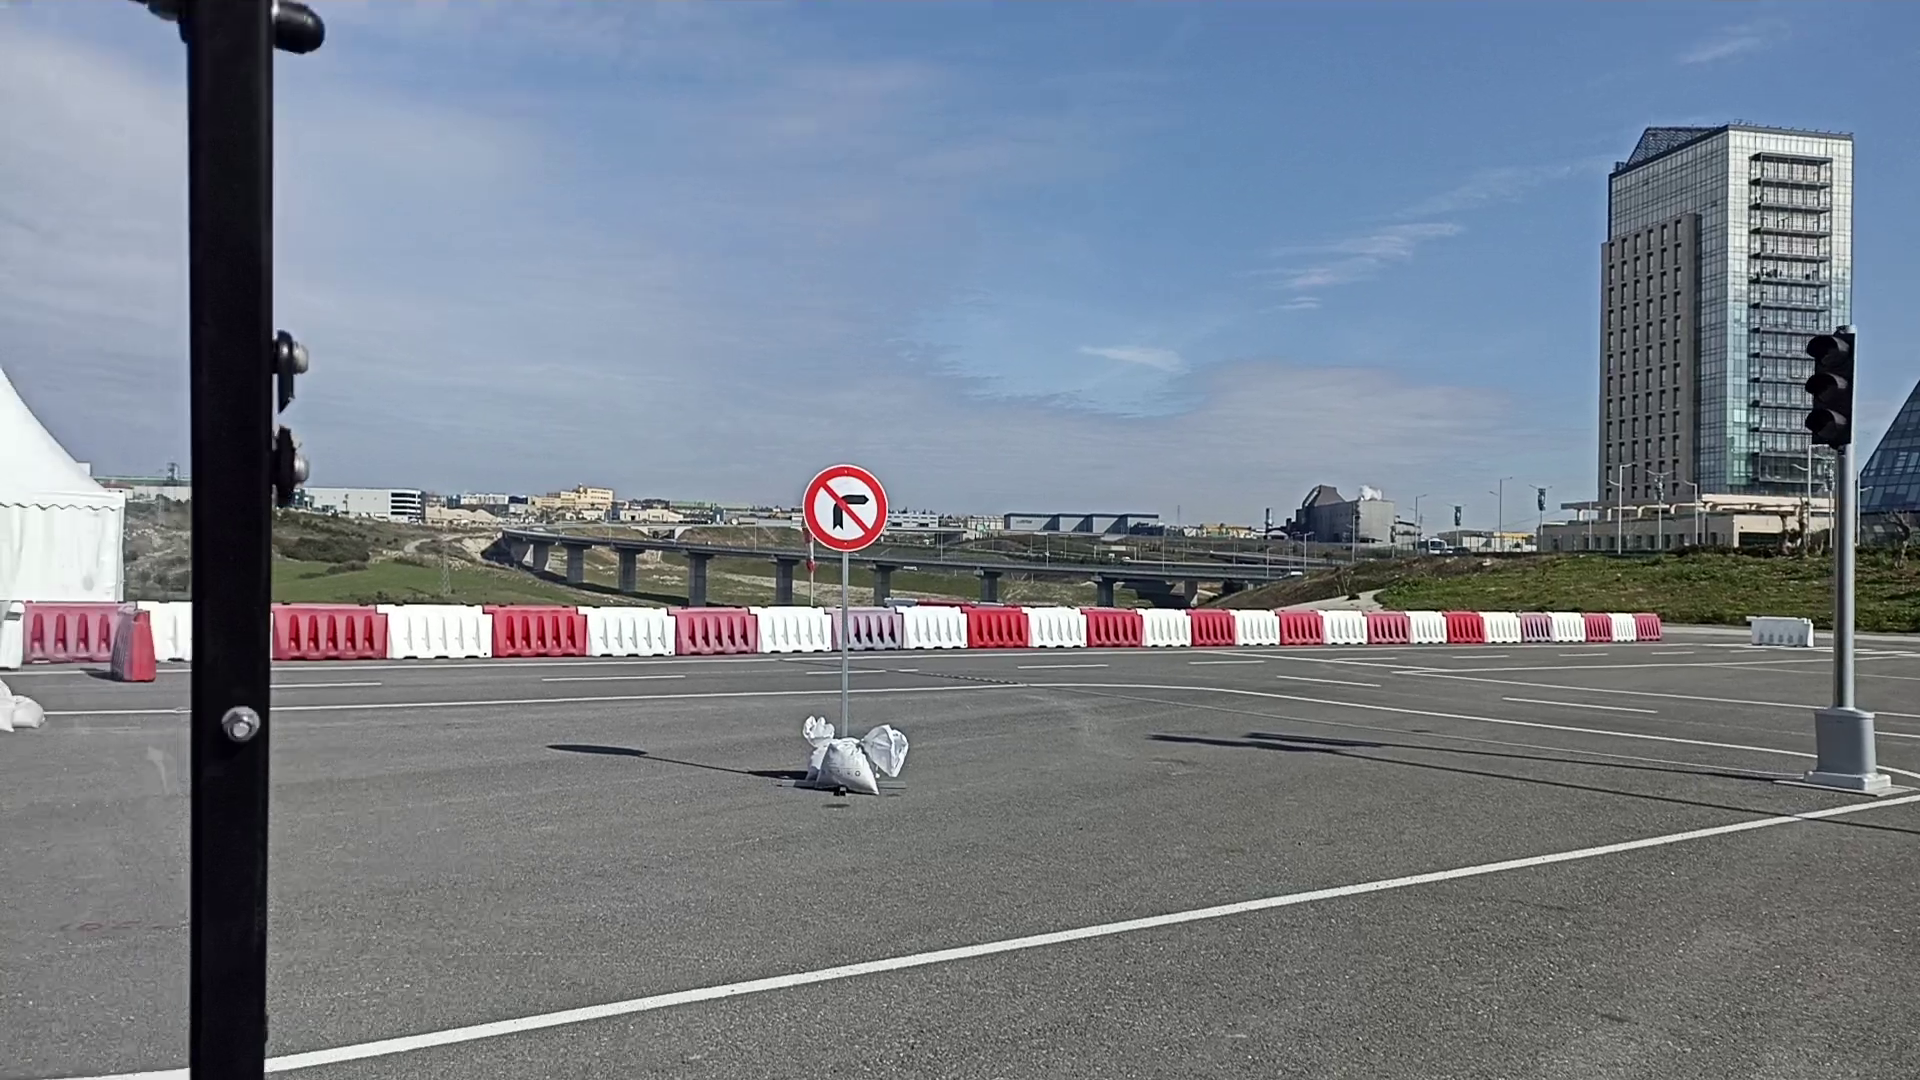noleftturn: (800, 462, 891, 555)
trafficlight: (1801, 324, 1859, 448)
